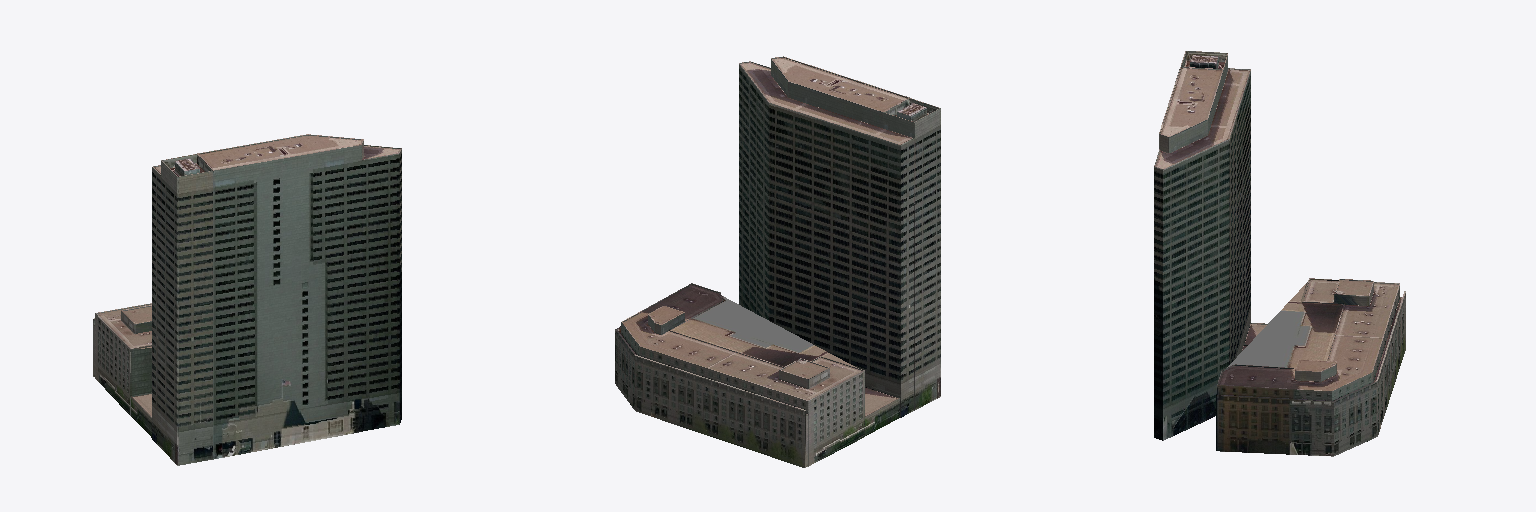
3 renders of one model, left to right at view 1: azimuth 30°, elevation 25°; view 2: azimuth 150°, elevation 25°; view 3: azimuth 270°, elevation 25°, orthographic.
Parts seen in each view (by area): view 1: polySurface3; view 2: polySurface3; view 3: polySurface3.
Part boxes in pixels (x1,y1,x2,y2): polySurface3: (93, 134, 401, 465); polySurface3: (615, 56, 940, 467); polySurface3: (1154, 51, 1405, 456).
Bounding box in the file's own units: 368 × 404 × 319.
1 materials, 1 textured.